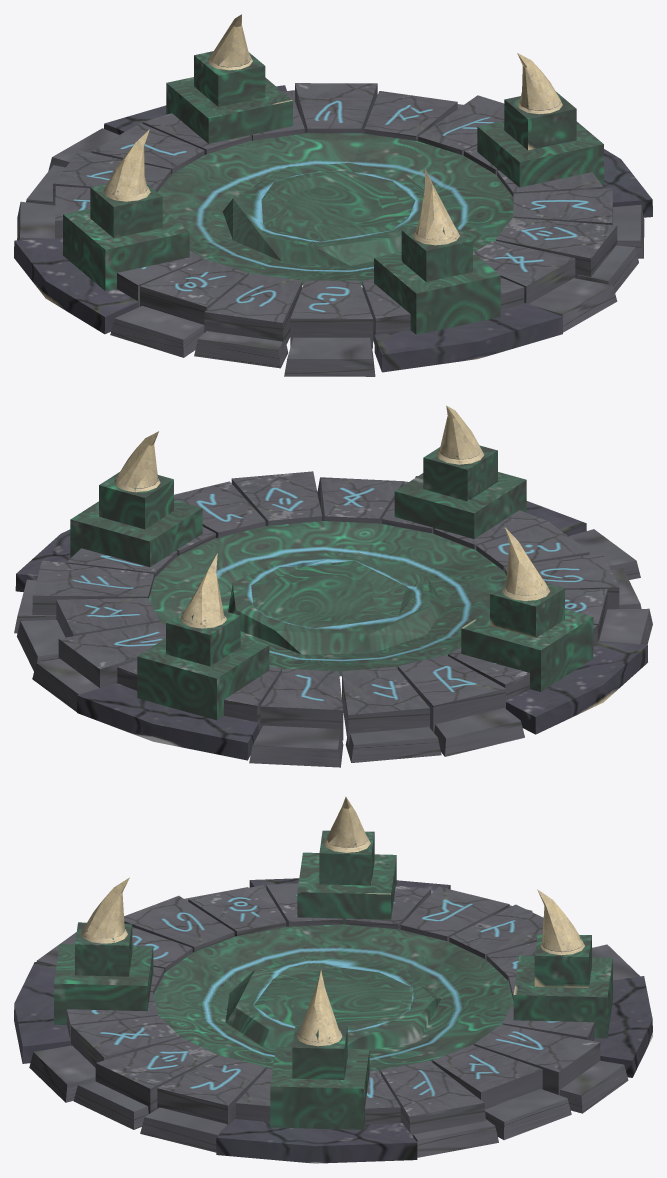
File: ETC0310011.fbx
3 renders of one model, top to bottom at view 1: azimuth 30°, elevation 25°; view 2: azimuth 150°, elevation 25°; view 3: azimuth 270°, elevation 25°, orthographic.
Visible parts, largest first — view 1: smETC0310011; view 2: smETC0310011; view 3: smETC0310011.
Boxes of the visible parts, left/top/right/bottom form: smETC0310011: left=14, top=14, right=652, bottom=376; smETC0310011: left=14, top=405, right=652, bottom=767; smETC0310011: left=14, top=797, right=652, bottom=1163.
Bounding box in the file's own units: 254 × 65.31 × 254.
1 material, 1 textured.
